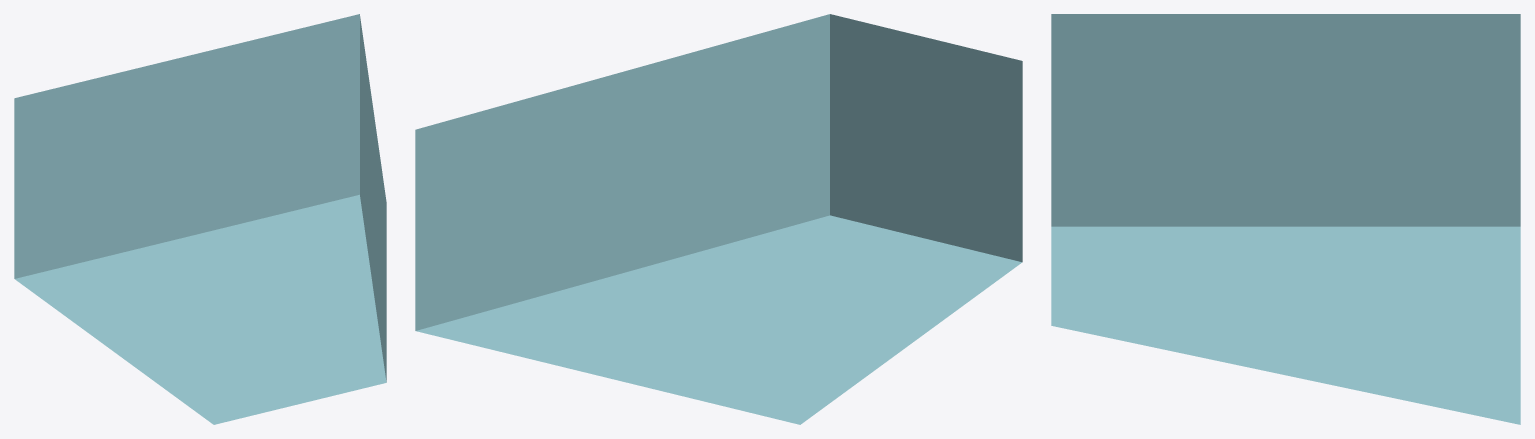
The picture shows the model from 3 angles, left to right: view 1: azimuth 30°, elevation 25°; view 2: azimuth 150°, elevation 25°; view 3: azimuth 270°, elevation 25°; orthographic projection. The views are drawn at different scales.
Size of the model in its own units: 2 by 1 by 2.
